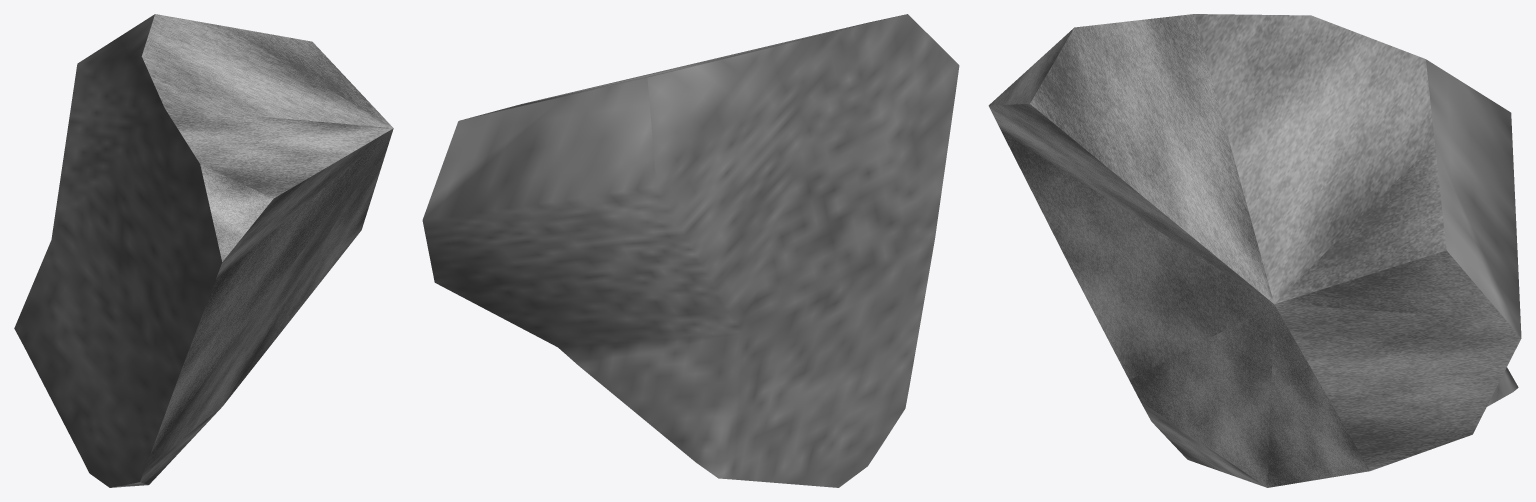
The model's file is leg_1_cell_019.fbx.
3 renders of one model, left to right at view 1: azimuth 30°, elevation 25°; view 2: azimuth 150°, elevation 25°; view 3: azimuth 270°, elevation 25°, orthographic. The views are drawn at different scales.
Parts seen in each view (by area): view 1: leg_1_cell.019; view 2: leg_1_cell.019; view 3: leg_1_cell.019.
Boxes of the visible parts, left/top/right/bottom form: leg_1_cell.019: left=14, top=14, right=393, bottom=487; leg_1_cell.019: left=422, top=14, right=959, bottom=487; leg_1_cell.019: left=988, top=14, right=1521, bottom=487.
Size of the model in its own units: 29.55 by 35.97 by 35.65.
